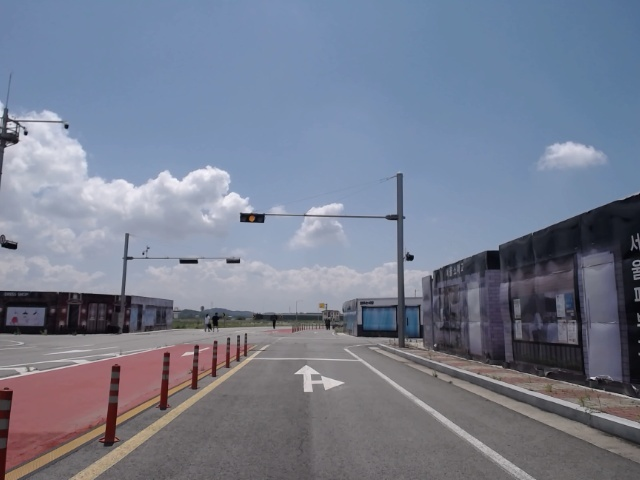orange_3: (240, 213, 265, 224)
